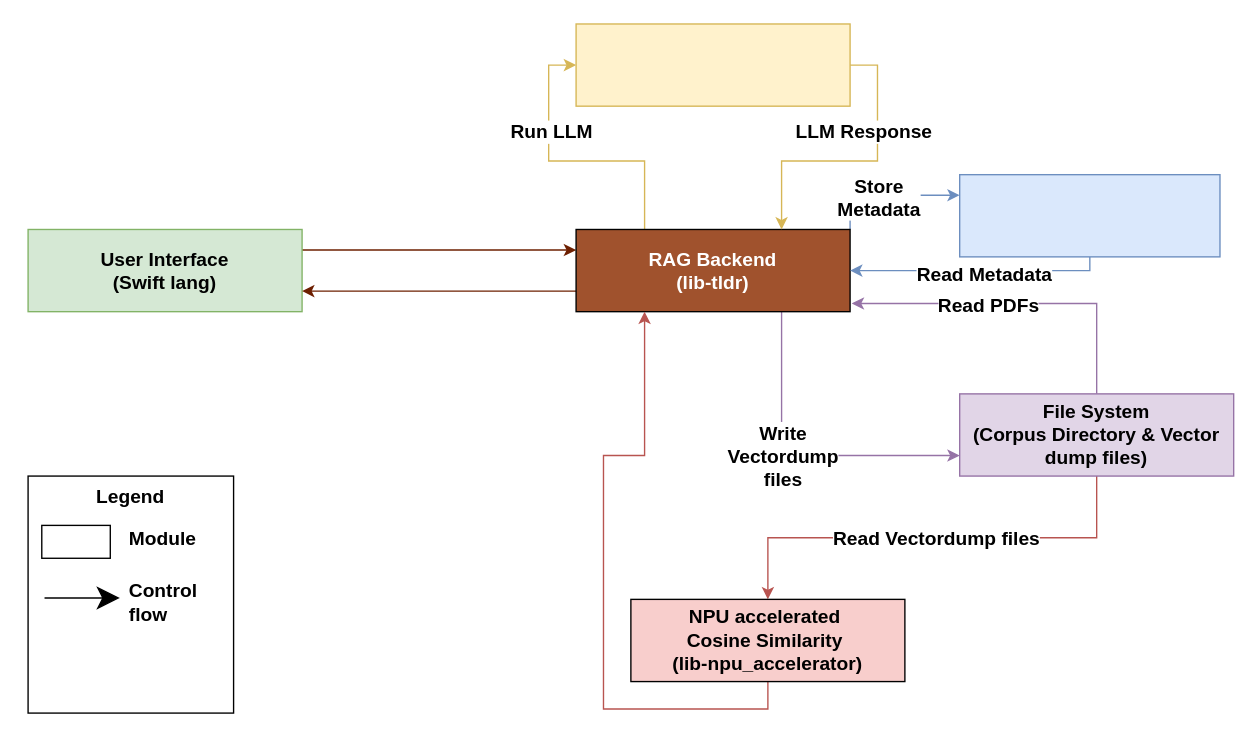
Image size: 1258x744. Some labels were removed from this diagram. The shapes that lost their labels are listed below. From the top down, each one's box as (x1, y1, x2, y2) in pixels, then its label:
(575, 23, 850, 106): llama.cpp (lib-llama)
(958, 173, 1220, 257): PostgresSQL Database
